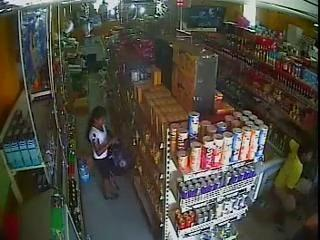normal: (1, 1, 320, 239)
